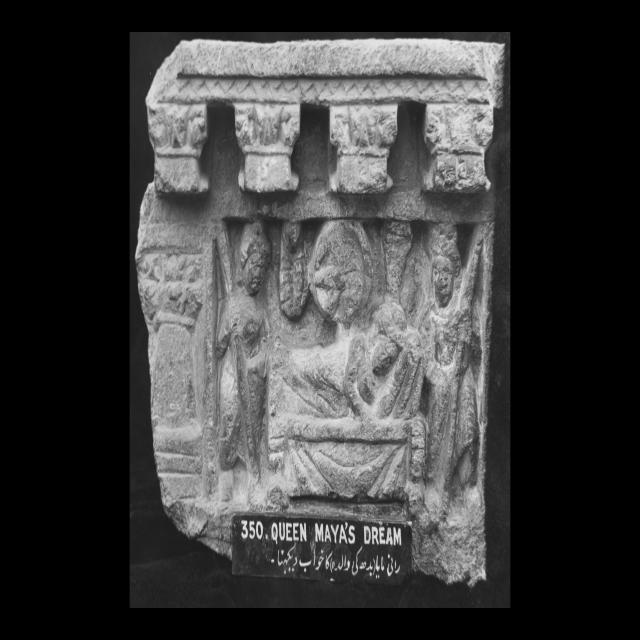buddha-sleeping: (269, 302, 426, 500)
